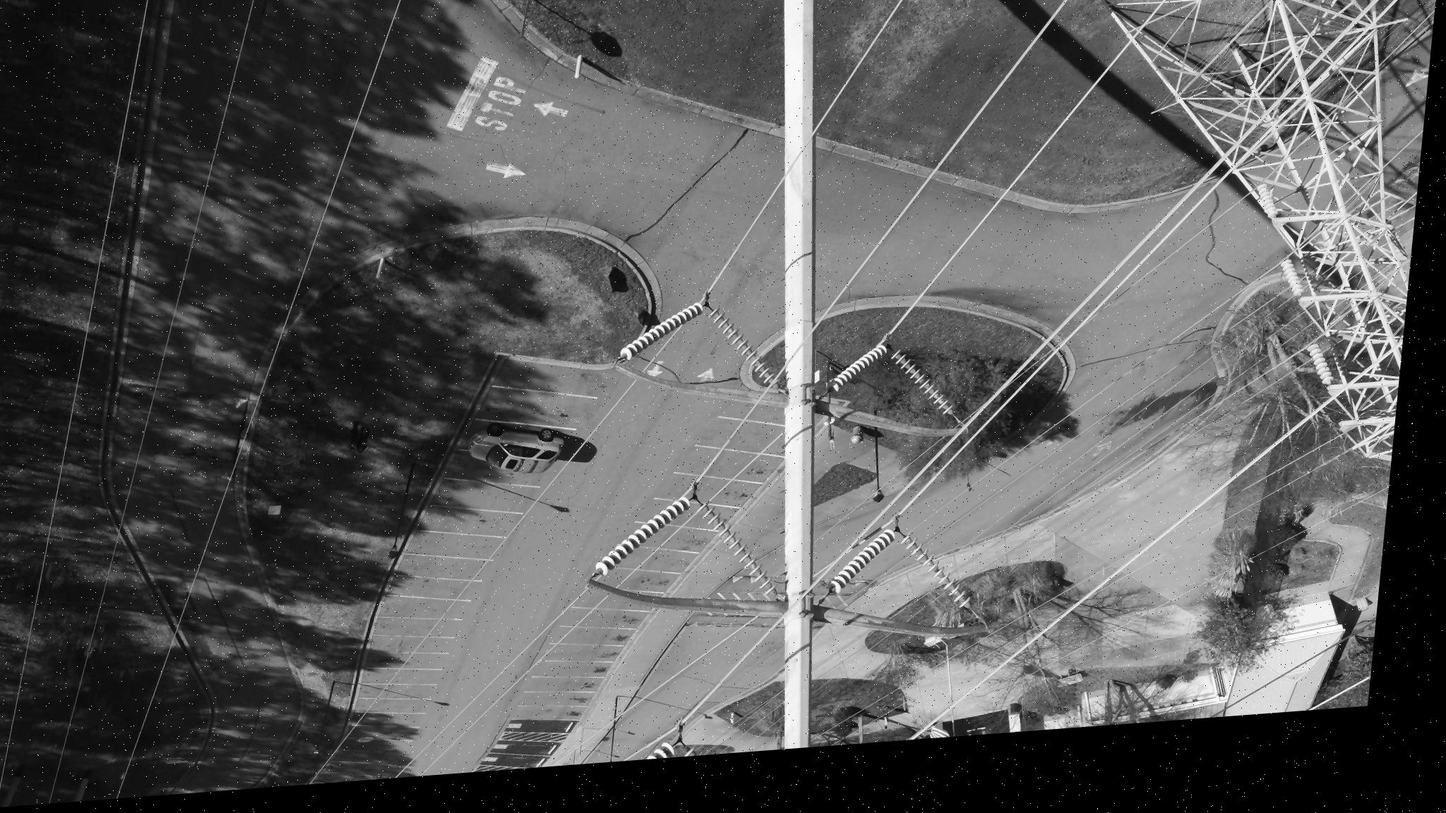tower: (1042, 0, 1446, 489)
